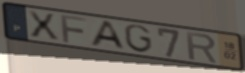7: (156, 26, 183, 59)
A: (88, 20, 128, 52)
F: (59, 13, 89, 44)
G: (123, 23, 155, 55)
R: (184, 30, 219, 64)
X: (25, 9, 61, 41)
